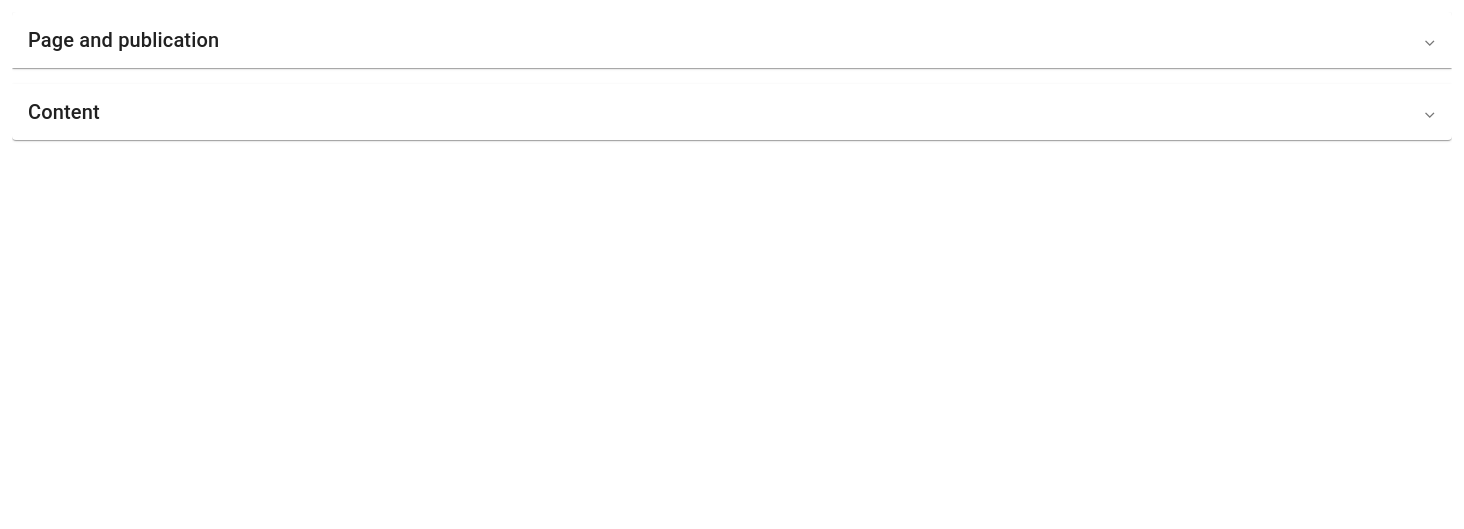
Scenario: localized page sections start closed, track edits, and clear changes after reverting
Click the button "Content ⌄" at (64, 112), box [12, 84, 1452, 140]
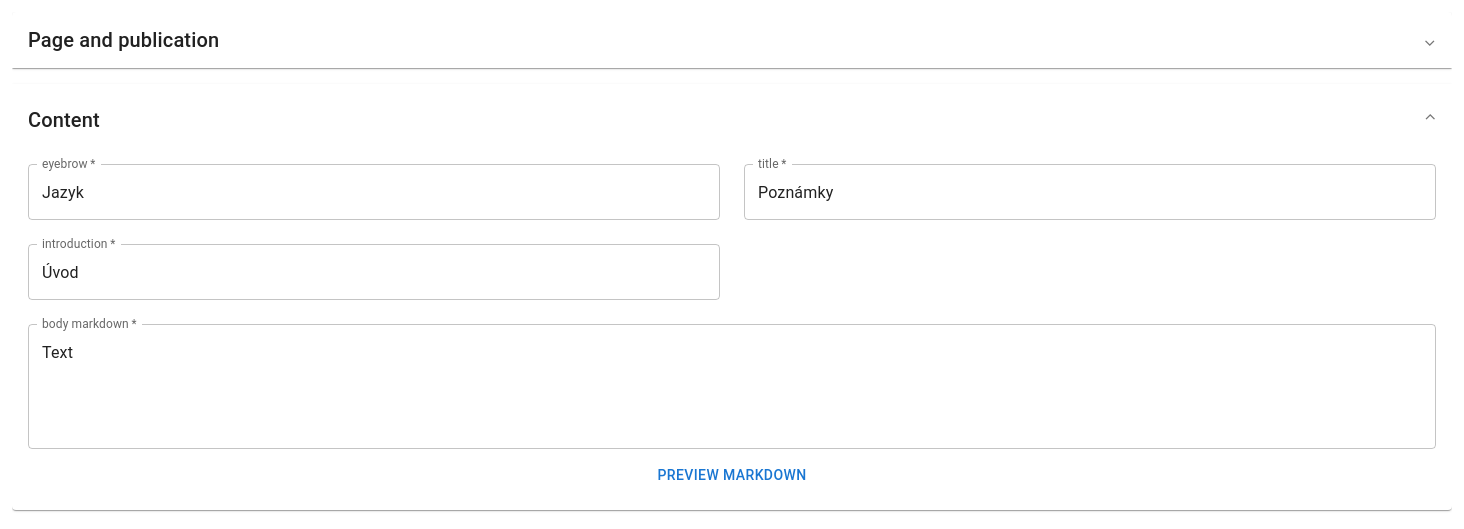
Expected: the field labelled "title *" holds "Poznámky"
Replace the text in the field labelled "title *" with "Nový název" at (1090, 192), box [744, 164, 1436, 220]
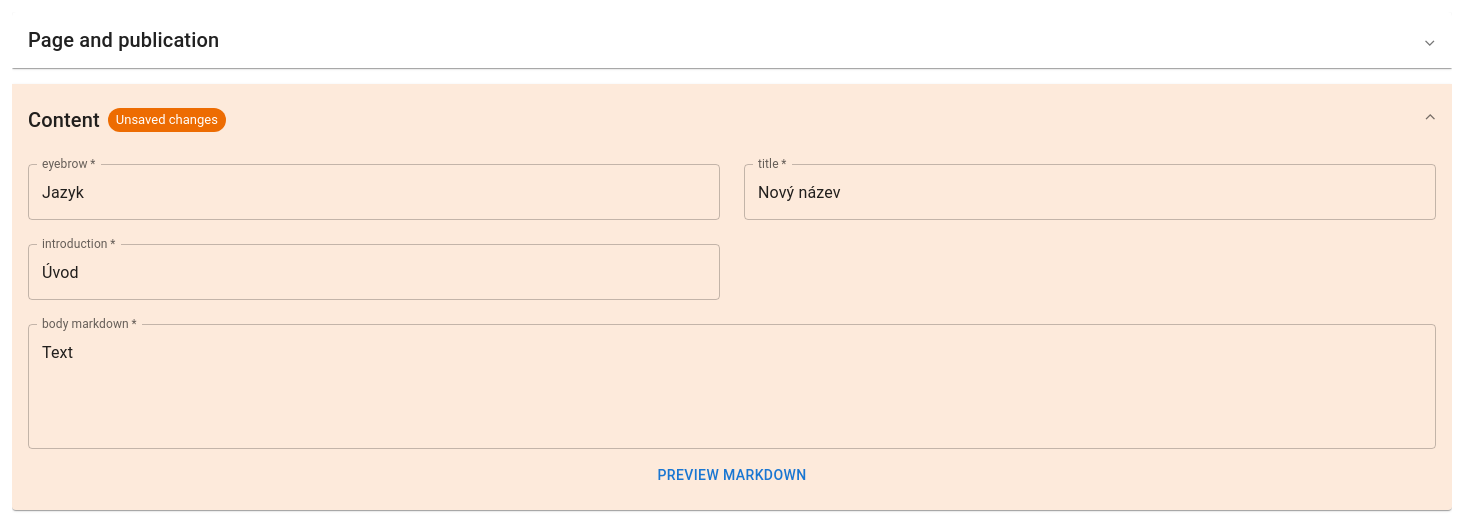
Expected: the button "Page and publication ⌄" is shown, [12, 12, 1452, 68]
Expected: the button "Content Unsaved changes ⌄" is shown, [12, 84, 1452, 156]
Replace the text in the field labelled "title *" with "Poznámky" at (1090, 192), box [744, 164, 1436, 220]
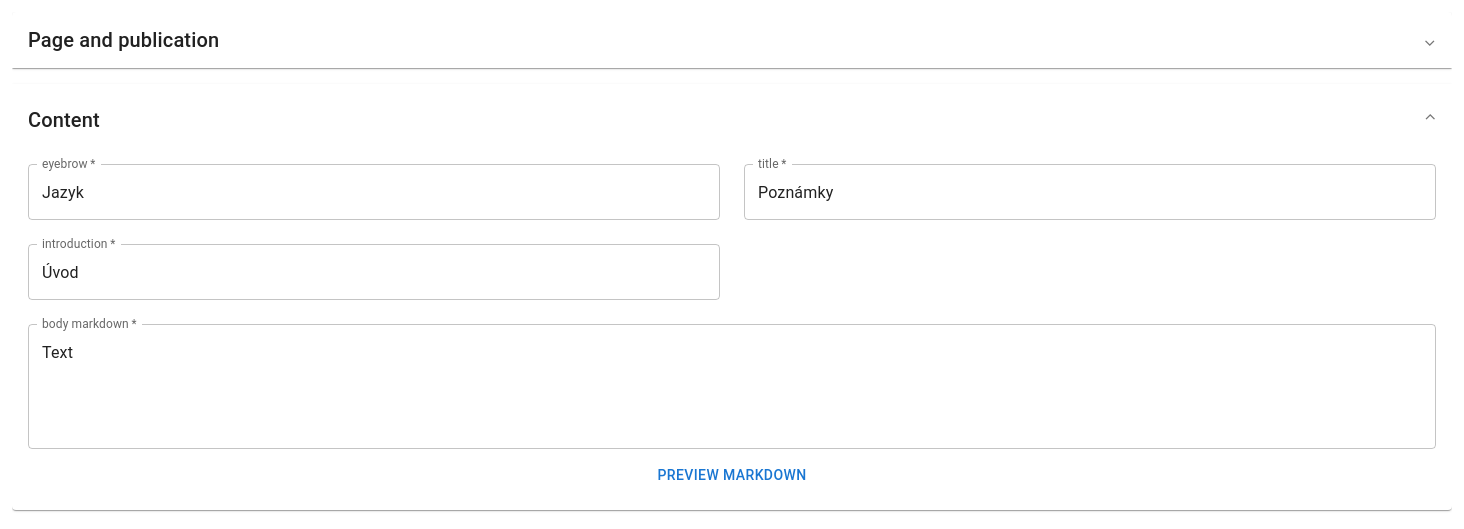
Expected: the text "Unsaved changes" is gone
